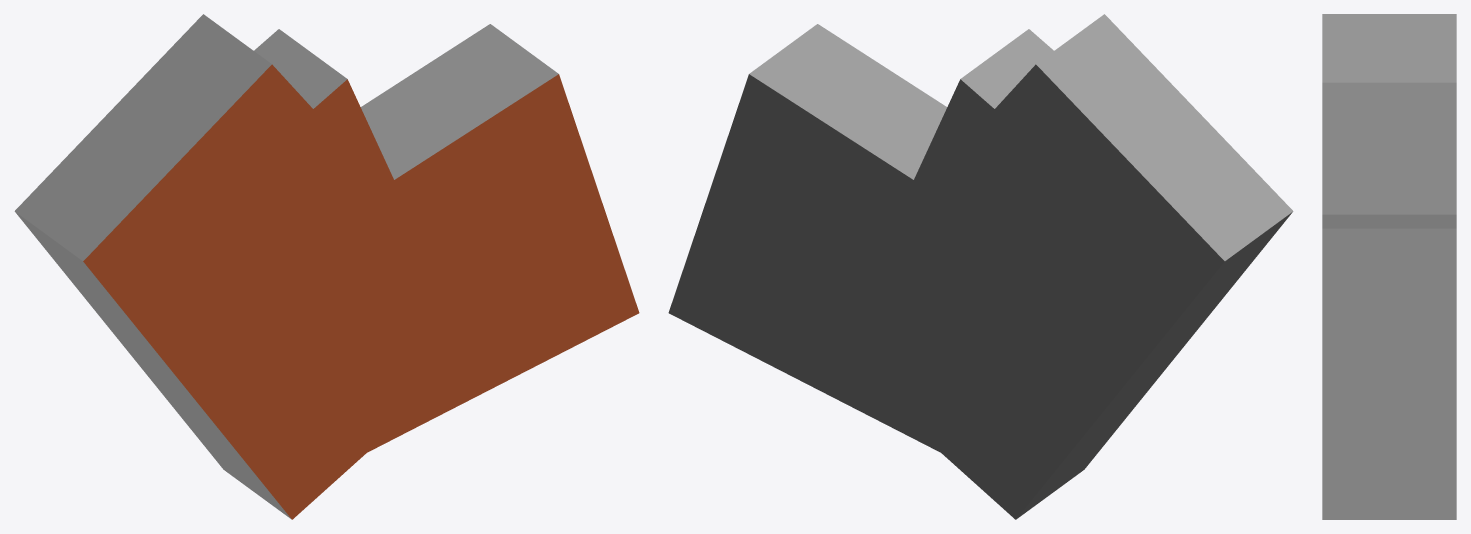
The model's file is construction_4572_assumed_A_Casa_h6m.obj.
3 renders of one model, left to right at view 1: azimuth 30°, elevation 25°; view 2: azimuth 150°, elevation 25°; view 3: azimuth 270°, elevation 25°, orthographic. The views are drawn at different scales.
Visible parts, largest first — view 1: construction_4572_assumed_A_Casa; view 2: construction_4572_assumed_A_Casa; view 3: construction_4572_assumed_A_Casa.
Boxes of the visible parts, left/top/right/bottom form: construction_4572_assumed_A_Casa: left=14, top=14, right=639, bottom=519; construction_4572_assumed_A_Casa: left=668, top=14, right=1293, bottom=519; construction_4572_assumed_A_Casa: left=1322, top=14, right=1456, bottom=519.
Bounding box in the file's own units: 28.06 × 22.2 × 6.
